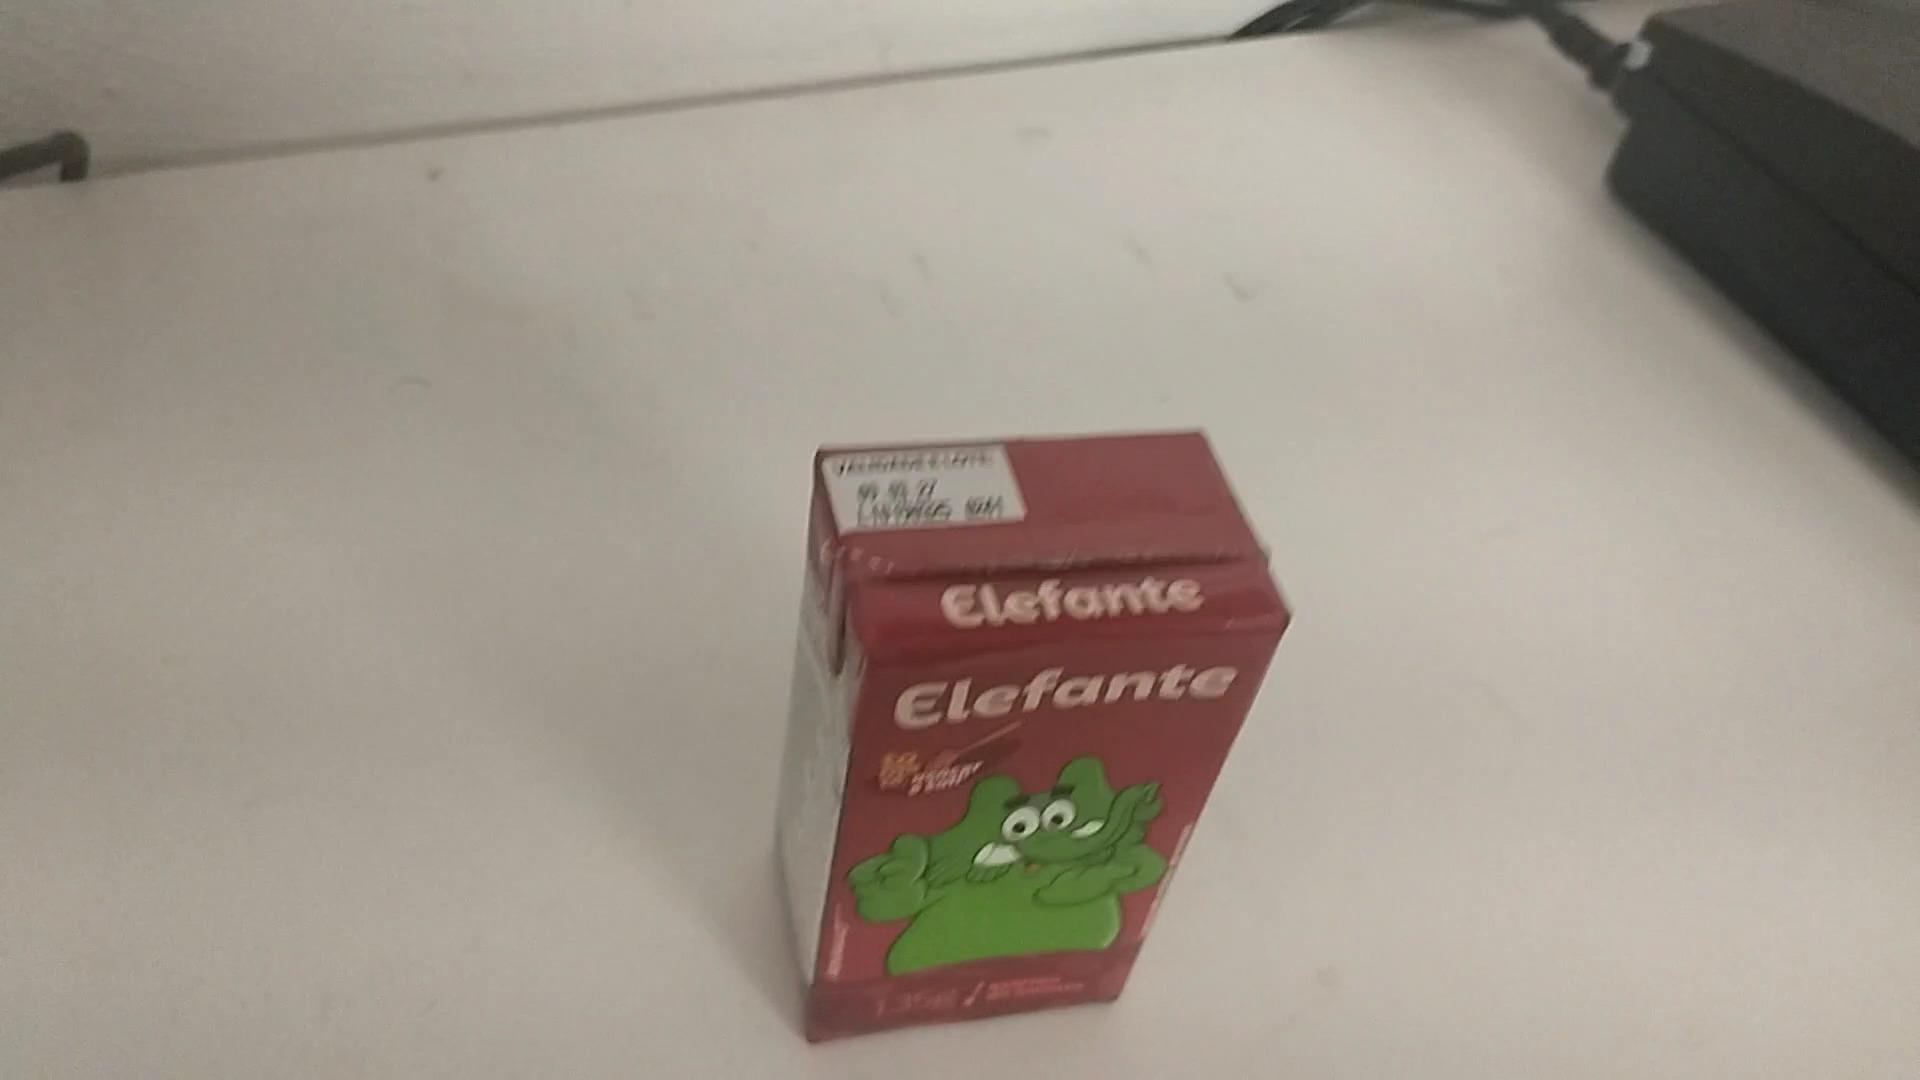tomate: (767, 407, 1303, 1036)
